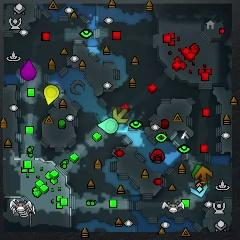p2: (99, 118, 119, 135)
p3: (21, 59, 36, 80)
p4: (45, 83, 59, 105)
x2: (113, 108, 129, 124)
x3: (190, 184, 209, 197)
x4: (191, 163, 202, 179)
x5: (195, 167, 214, 184)
